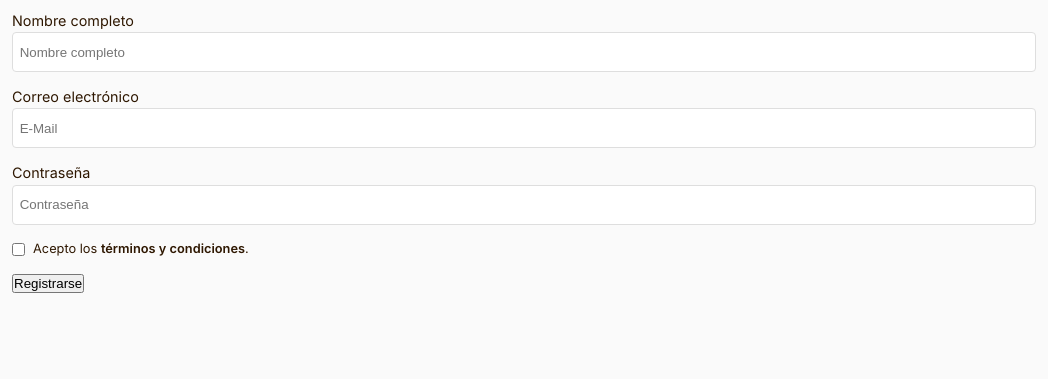
Test: <RegisterForm /> › Si el formulario tiene los campos requeridos vacíos, NO envía el formulario y renderiza los errores correspondientes
The image size is (1048, 379).
Click the button "Registrarse" at x=48, y=283, box [12,274,84,293]
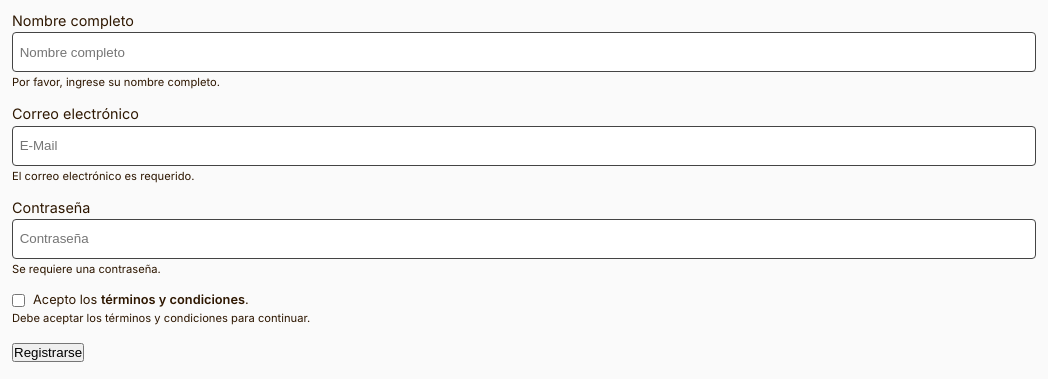
Expected: the text "Por favor, ingrese su nombre completo." is shown, [12,75,220,89]
Expected: the text "El correo electrónico es requerido." is shown, [12,169,194,183]
Expected: the text "Se requiere una contraseña." is shown, [12,262,161,276]
